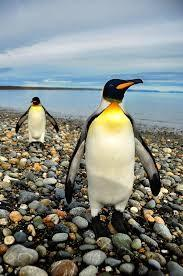king: (60, 67, 165, 225)
